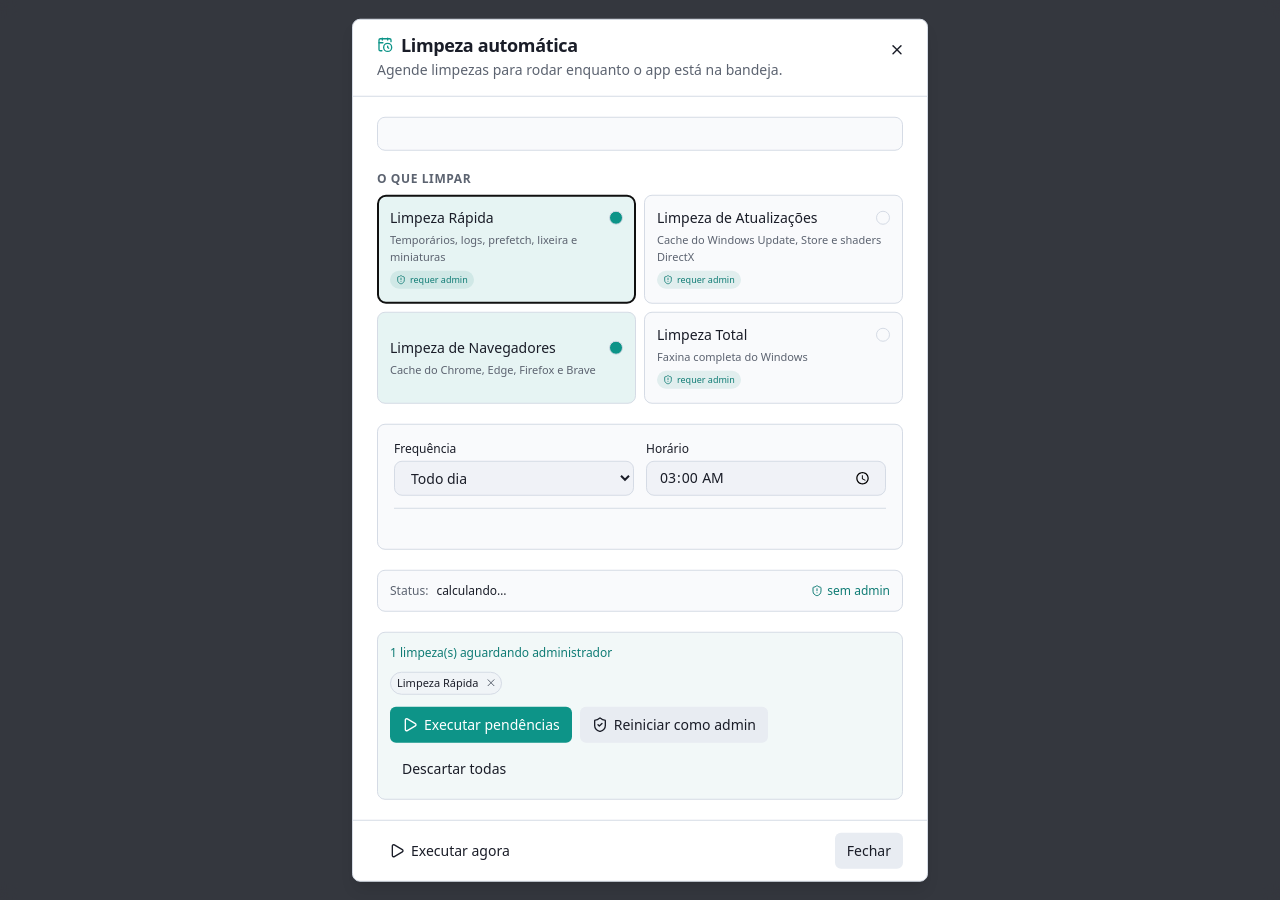
Test: AutoCleanModal — status › lista as pendências de admin e permite descartá-las com confirmação
Later steps or results of the test are not shown.
Expected: the text "1 limpeza(s) aguardando administrador" is shown, [390,644,612,661]
Expected: the button named "Descartar pendência de Limpeza Rápida" is shown, [482,675,498,691]
Click the button "Descartar todas": (454, 768) [390,750,518,786]
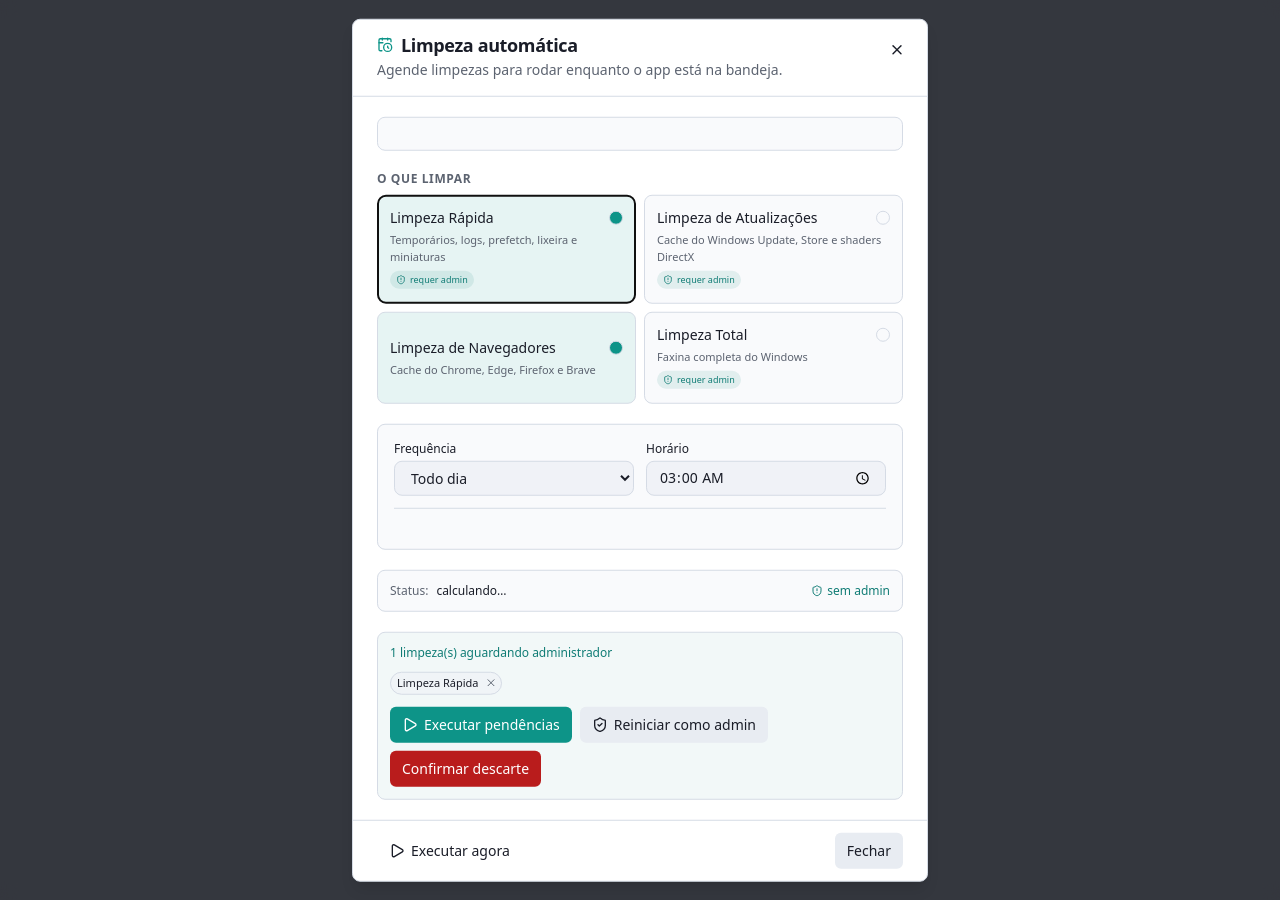
Result: the button "Confirmar descarte" is shown at [390,750,541,786]
